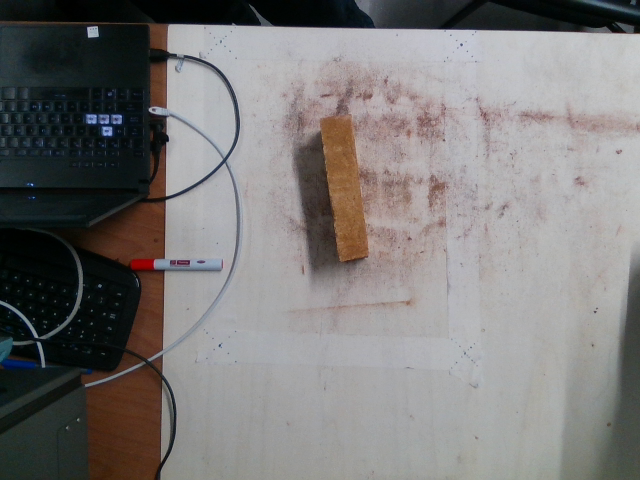brick-side: (319, 114, 369, 257)
